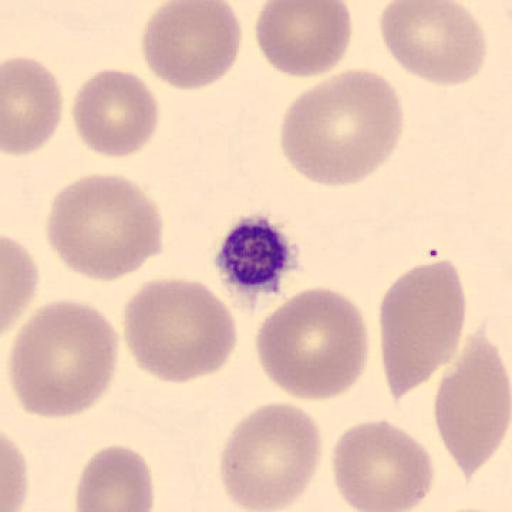Platelet: (213, 212, 302, 300)
RBC: (278, 66, 405, 189), (254, 284, 372, 403), (44, 170, 166, 284), (9, 297, 120, 421), (378, 259, 467, 400), (122, 276, 238, 384), (218, 398, 322, 512), (433, 332, 511, 482), (331, 417, 436, 512), (377, 0, 488, 87), (141, 0, 243, 92), (70, 68, 160, 159), (254, 0, 353, 79), (2, 55, 65, 158), (74, 443, 155, 512), (1, 232, 40, 336), (0, 430, 30, 512)
